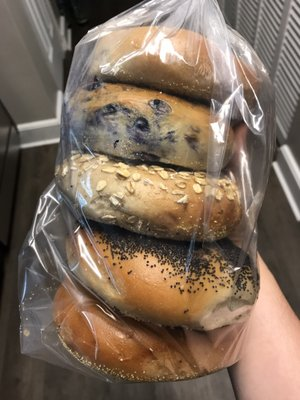salad: (58, 156, 243, 243)
